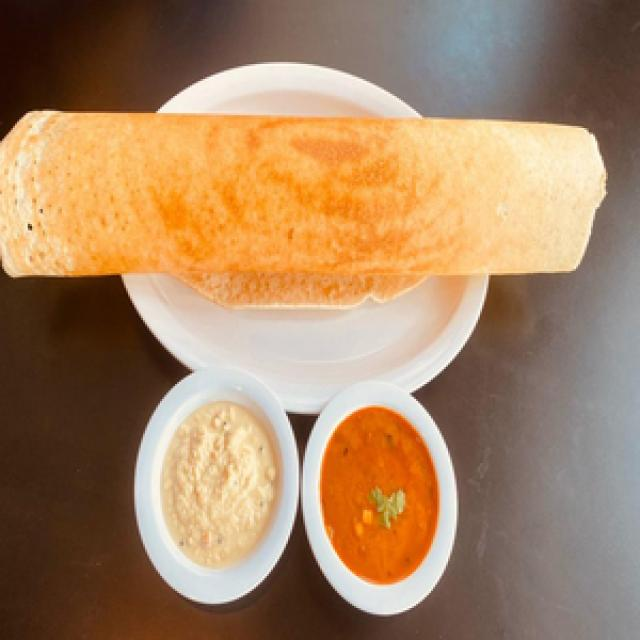dosa: (0, 88, 619, 296)
